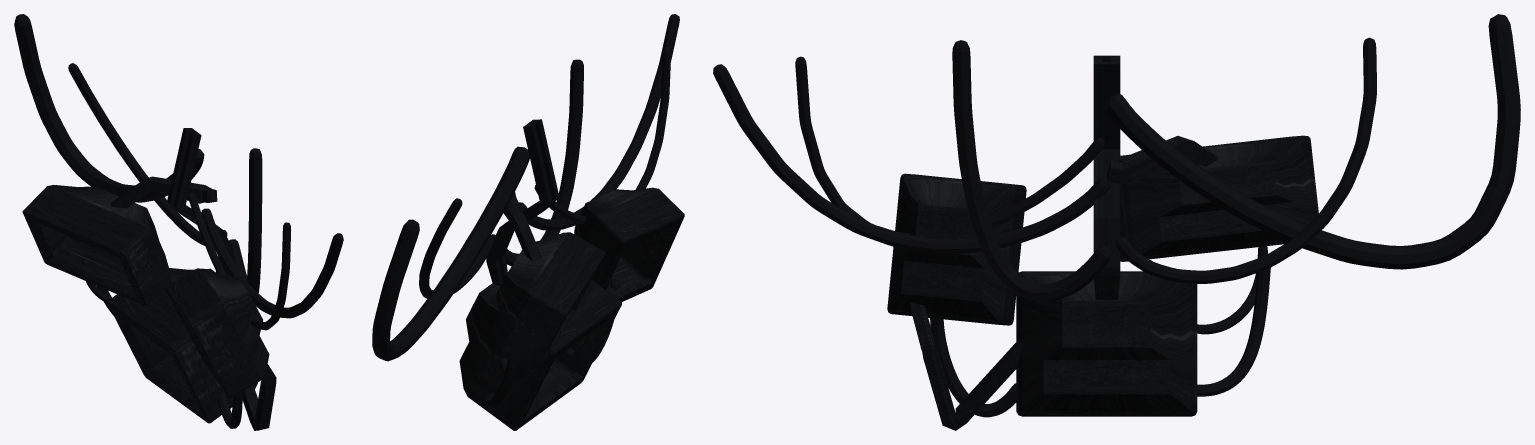
The model's file is enemy.glb.
3 renders of one model, left to right at view 1: azimuth 30°, elevation 25°; view 2: azimuth 150°, elevation 25°; view 3: azimuth 270°, elevation 25°, orthographic. The views are drawn at different scales.
Parts seen in each view (by area): view 1: TV.001, TVSIDE1, TV, BézierCurve.007, BézierCurve.005, BézierCurve.004, BézierCurve.006, Stand, BézierCurve.003, Cube, Cube.001, BézierCurve; view 2: TV, TV.001, TVSIDE1, BézierCurve.007, Stand, BézierCurve.005, BézierCurve.004, BézierCurve.003, BézierCurve.006, Cube, BézierCurve.002, BézierCurve; view 3: TV, TV.001, BézierCurve.007, TVSIDE1, BézierCurve.005, BézierCurve.004, BézierCurve.006, Stand, Cube.001, BézierCurve.003, BézierCurve.002, Cube (+2 smaller).
Boxes of the visible parts, bbox=[...] form: TV.001: bbox=[22, 185, 170, 305]; TVSIDE1: bbox=[164, 268, 269, 397]; TV: bbox=[107, 268, 257, 423]; BézierCurve.007: bbox=[14, 14, 204, 202]; BézierCurve.005: bbox=[201, 208, 343, 318]; BézierCurve.004: bbox=[229, 148, 262, 292]; BézierCurve.006: bbox=[68, 63, 227, 245]; Stand: bbox=[167, 128, 232, 275]; BézierCurve.003: bbox=[188, 192, 291, 330]; Cube: bbox=[110, 176, 217, 208]; Cube.001: bbox=[242, 364, 276, 430]; BézierCurve: bbox=[218, 391, 242, 428]; TV: bbox=[459, 280, 621, 430]; TV.001: bbox=[491, 232, 605, 374]; TVSIDE1: bbox=[574, 187, 684, 301]; BézierCurve.007: bbox=[372, 146, 529, 361]; Stand: bbox=[486, 119, 559, 286]; BézierCurve.005: bbox=[518, 14, 679, 230]; BézierCurve.004: bbox=[491, 59, 583, 266]; BézierCurve.003: bbox=[534, 47, 670, 224]; BézierCurve.006: bbox=[419, 198, 493, 298]; Cube: bbox=[503, 192, 542, 261]; BézierCurve.002: bbox=[483, 360, 516, 411]; BézierCurve: bbox=[564, 279, 619, 362]; TV: bbox=[1016, 271, 1197, 416]; TV.001: bbox=[1120, 135, 1318, 261]; BézierCurve.007: bbox=[1104, 14, 1520, 269]; TVSIDE1: bbox=[887, 173, 1026, 325]; BézierCurve.005: bbox=[713, 64, 1110, 253]; BézierCurve.004: bbox=[952, 40, 1112, 301]; BézierCurve.006: bbox=[1115, 37, 1376, 283]; Stand: bbox=[1093, 55, 1120, 299]; Cube.001: bbox=[909, 302, 1023, 430]; BézierCurve.003: bbox=[795, 56, 1104, 235]; BézierCurve.002: bbox=[1197, 256, 1270, 396]; Cube: bbox=[1107, 136, 1218, 184].
Bounding box in the file's own units: 7.97 × 14.61 × 27.26.
1 material, 1 textured.
